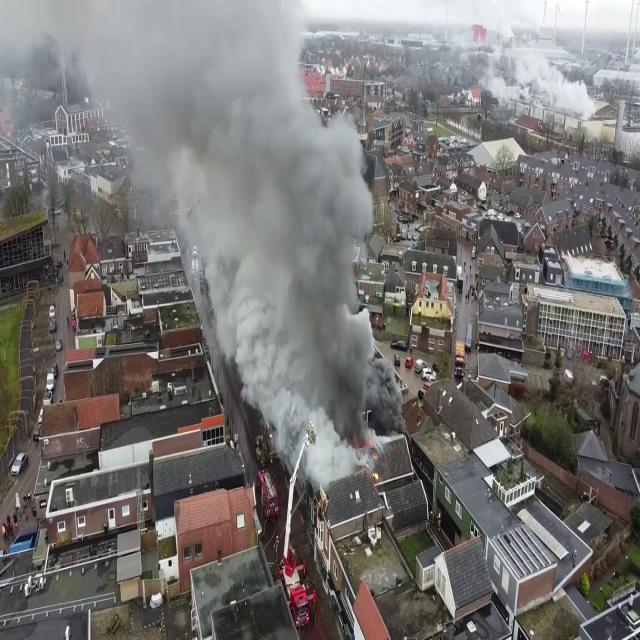Smoke: (98, 1, 392, 476)
